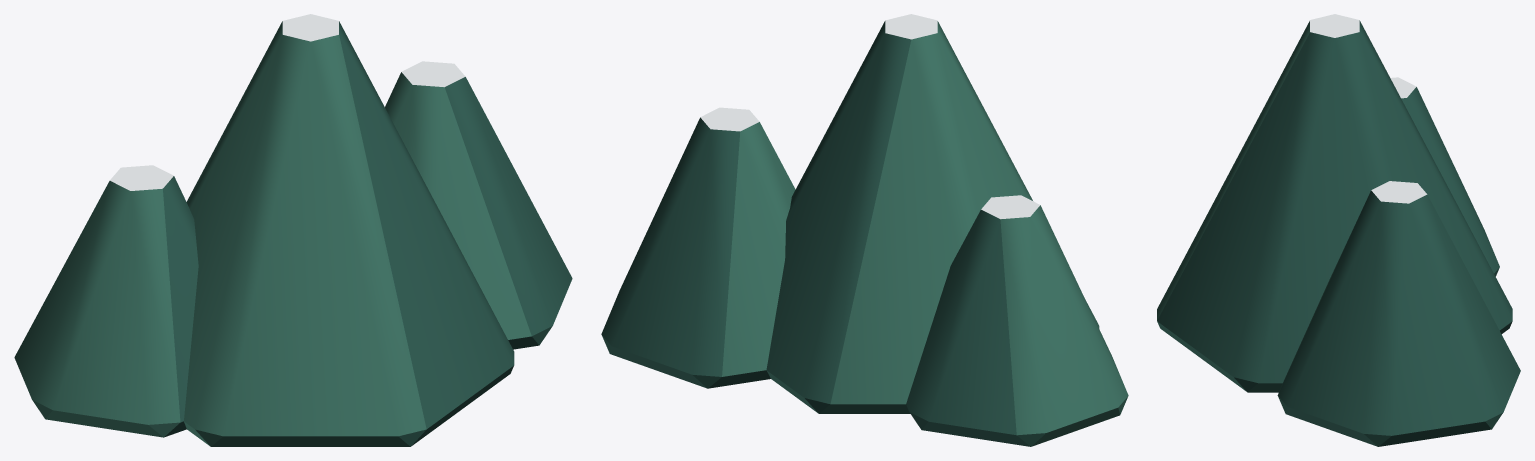
The model's file is FrostShrub.fbx.
3 renders of one model, left to right at view 1: azimuth 30°, elevation 25°; view 2: azimuth 150°, elevation 25°; view 3: azimuth 270°, elevation 25°, orthographic. The views are drawn at different scales.
Visible parts, largest first — view 1: FrostShrub; view 2: FrostShrub; view 3: FrostShrub.
Part boxes in pixels (box(x1,y1,x2,y2)): FrostShrub: box(14, 14, 572, 446); FrostShrub: box(601, 14, 1128, 446); FrostShrub: box(1157, 14, 1520, 446).
Size of the model in its own units: 1.01 by 0.622 by 0.678.
